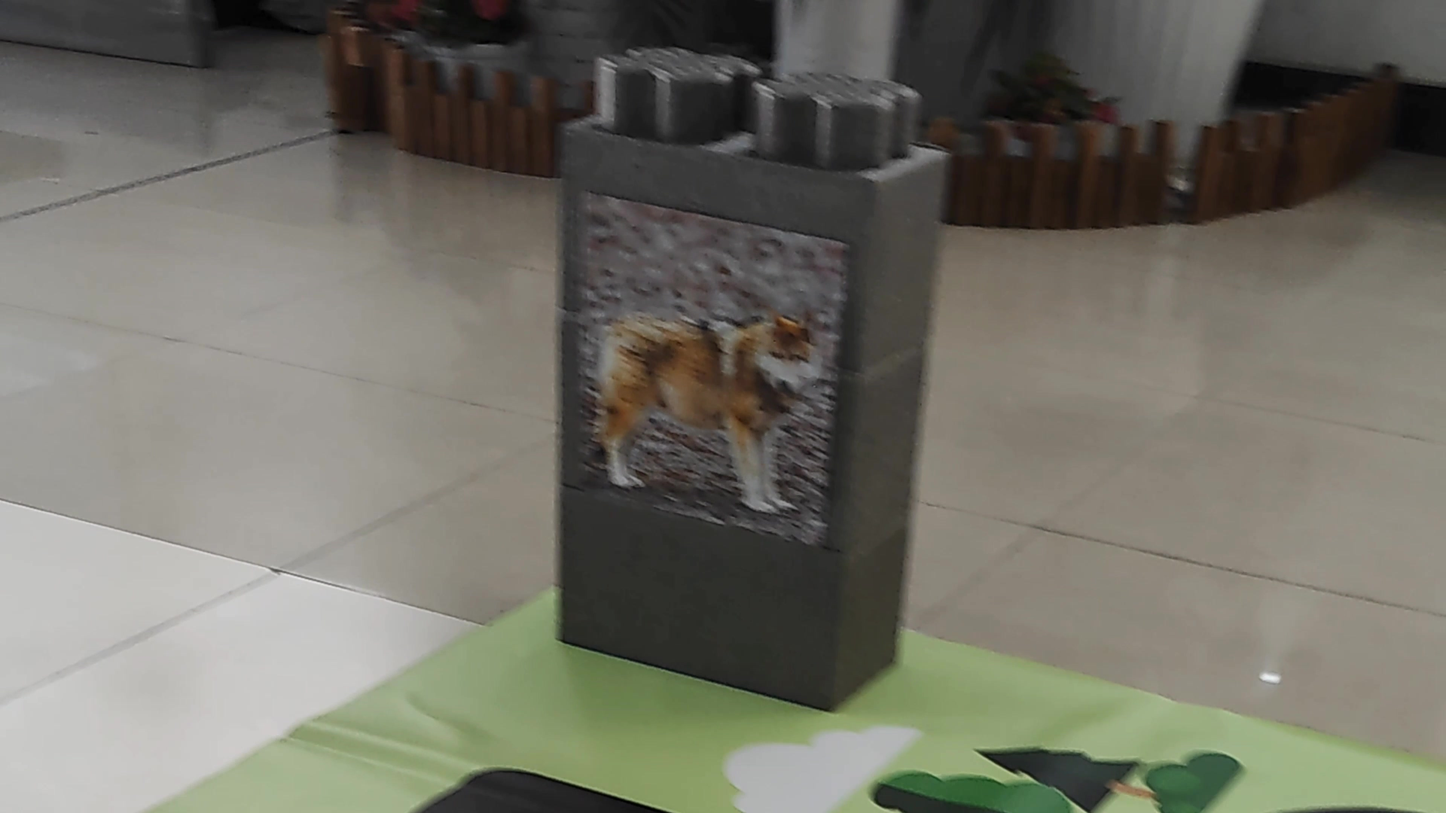wolf: (572, 279, 827, 542)
